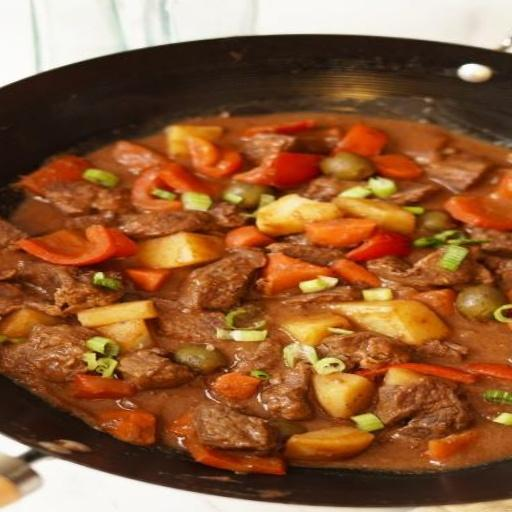pork caldereta: (0, 116, 511, 469)
